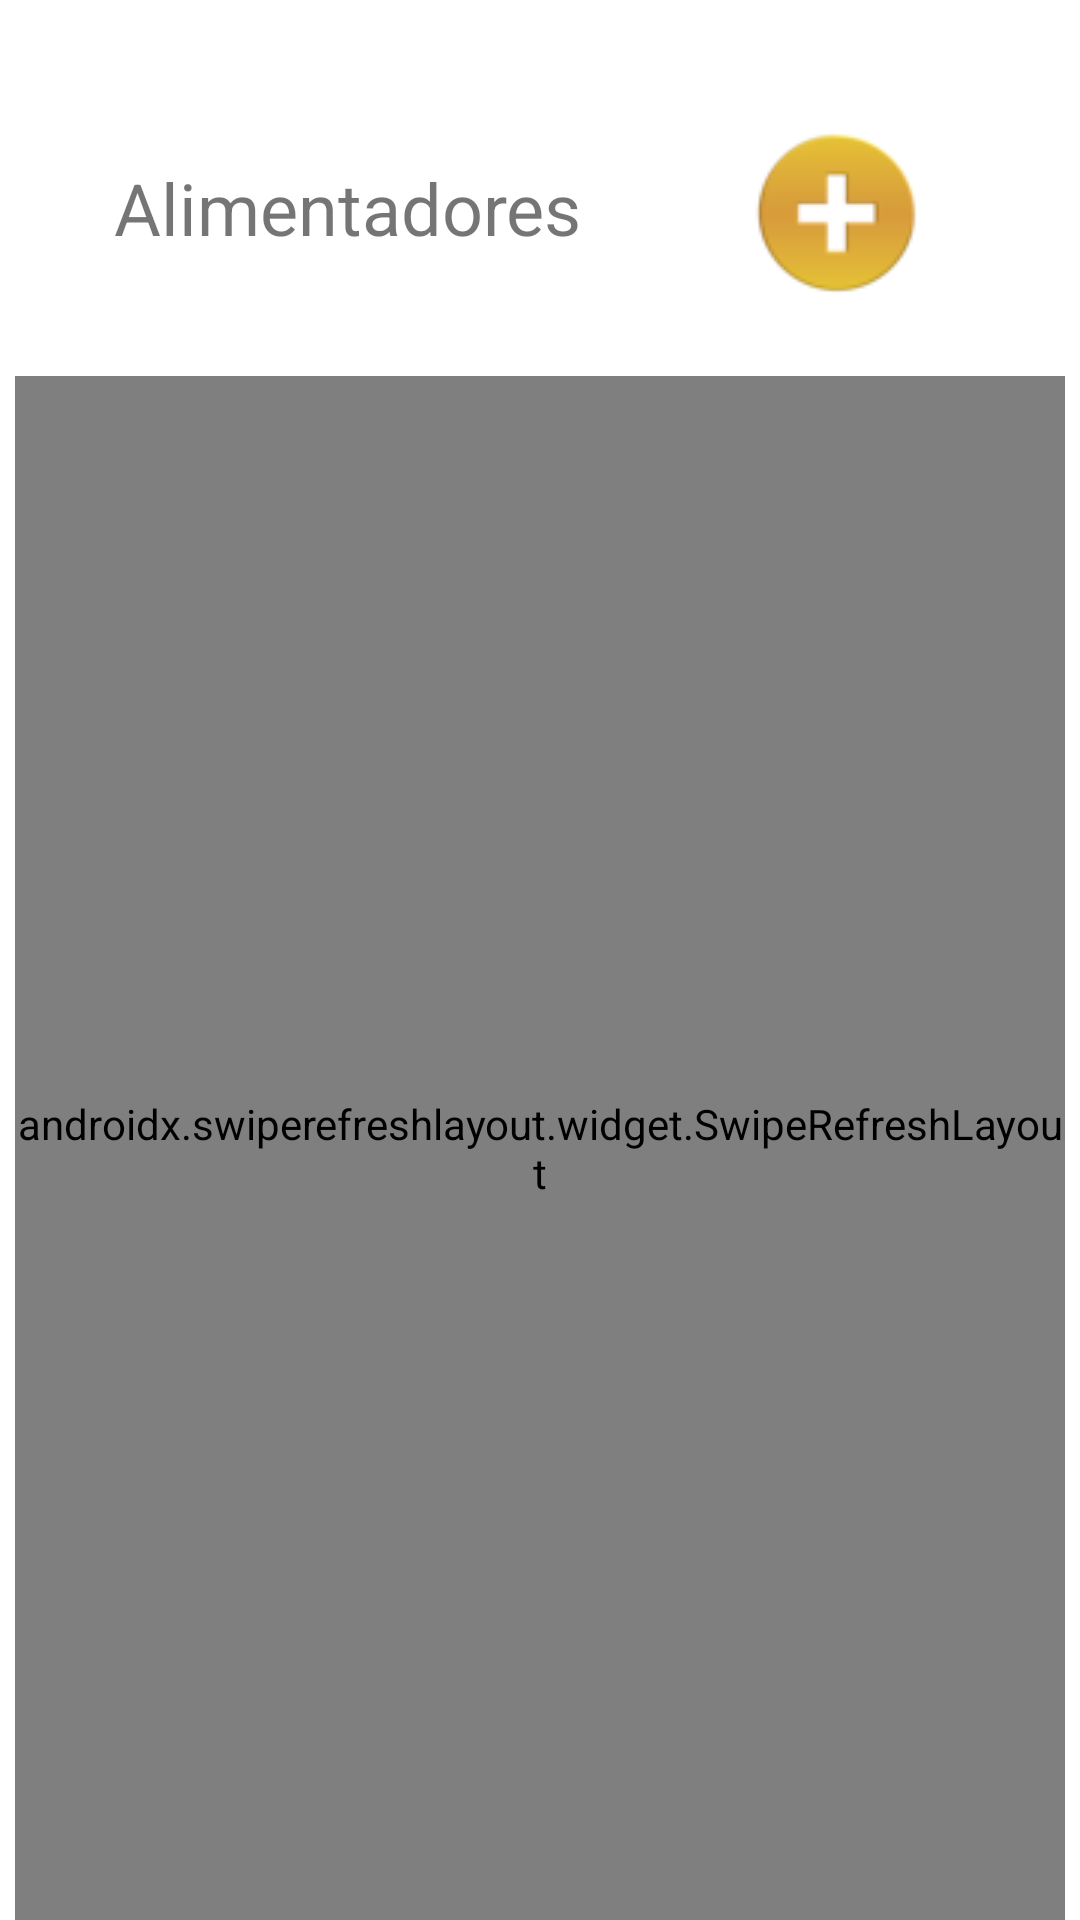

Icons on this 1080*1920 Android screen, each with its box as (x1, y1, x2, y2):
add pequeno: (757, 134, 916, 292)
